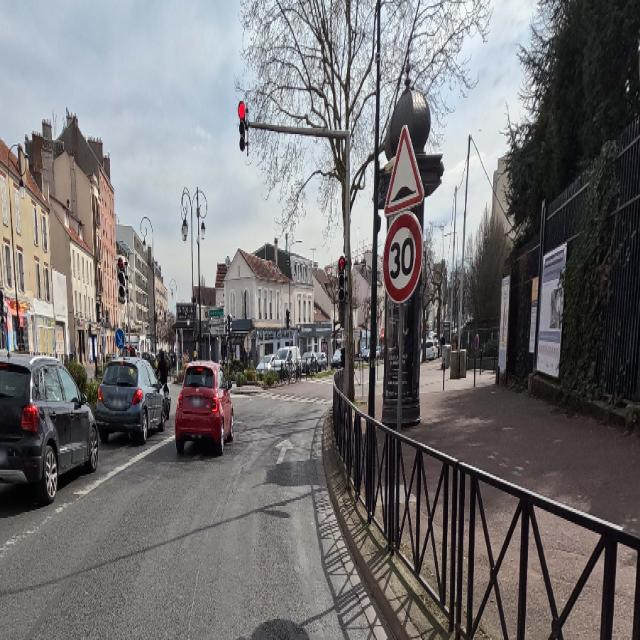speed_30: (382, 208, 424, 307)
